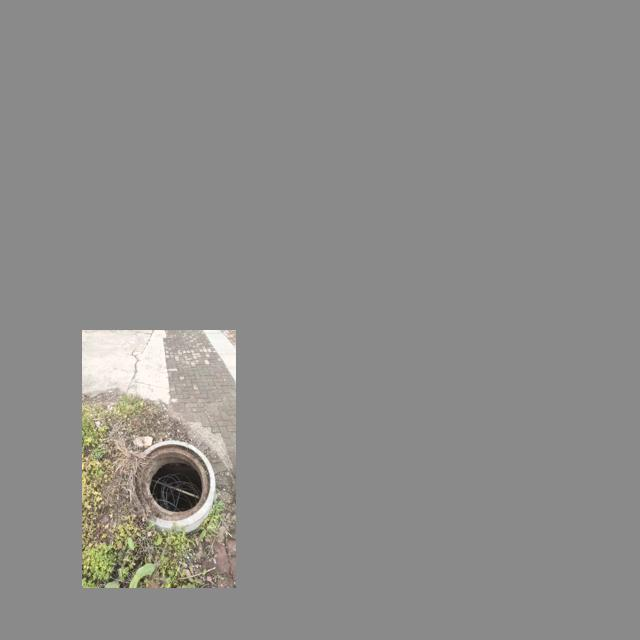lose: (129, 440, 215, 533)
